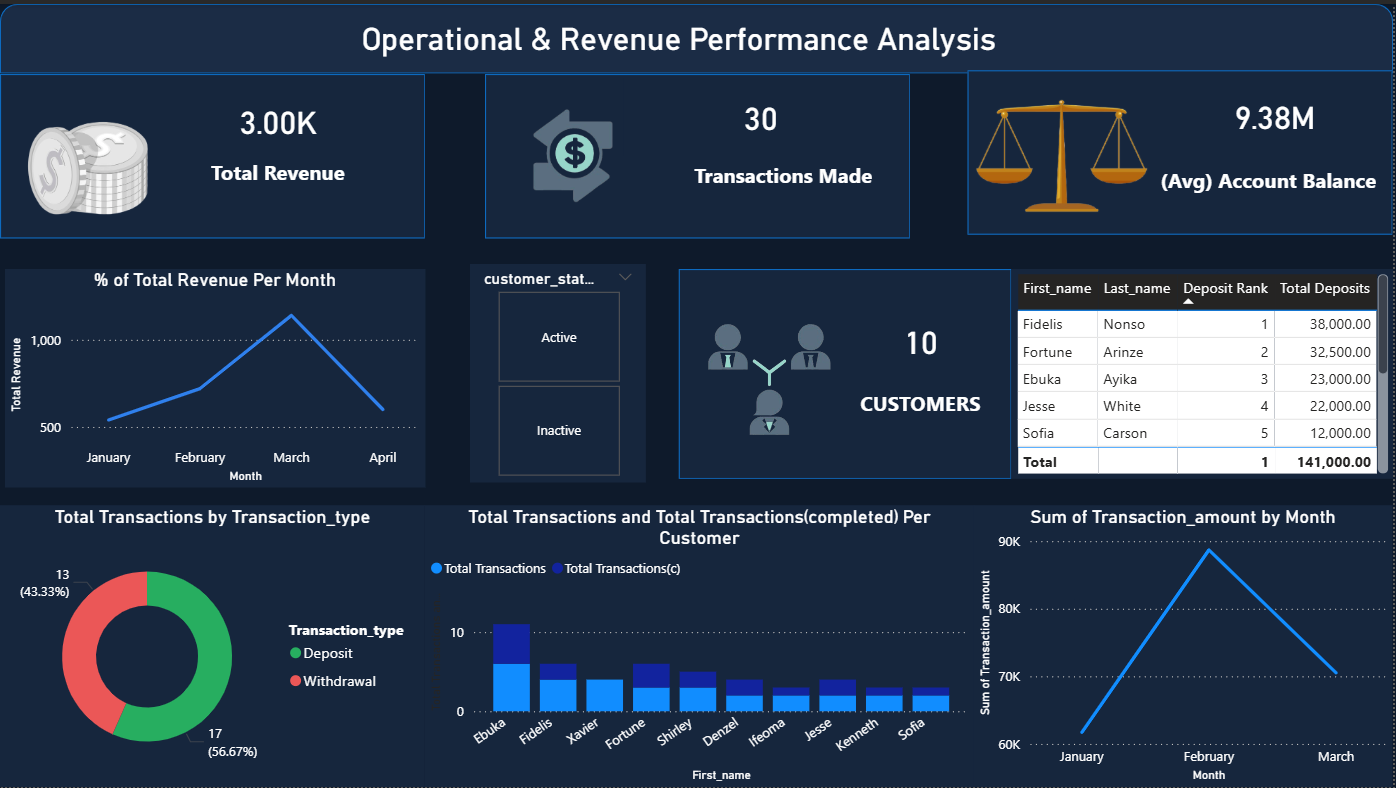

The page's visual inventory and layout, read from the dashboard file:
{"tool":"powerbi","page":{"name":"Page 1","canvas":[1280,720],"ordinal":0},"visuals":[{"type":"shape","box":[623.3,243,305.8,193],"z":0},{"type":"tableEx","fields":{"Values":["organization_db customers.First_name","organization_db customers.Last_name","organization_db account.Deposit Rank","organization_db account.Total Deposits"]},"box":[929.1,243,351.2,193],"z":1000},{"type":"lineChart","title":"% of Total Revenue  Per Month","fields":{"Category":["organization_db revenue.Revenue_date.Variation.Date Hierarchy.Month"],"Y":["organization_db account.Total Revenue"]},"box":[4.7,243,386,201.2],"z":2000},{"type":"donutChart","fields":{"Y":["organization_db account.Total Transactions"],"Category":["organization_db transactions.Transaction_type"]},"box":[0,460.5,390.7,259.3],"z":3000},{"type":"columnChart","title":"Total Transactions and Total Transactions(completed) Per Customer","fields":{"Category":["organization_db customers.First_name"],"Y":["organization_db account.Total Transactions","organization_db account.Total Transactions(c)"]},"box":[390.7,460.5,504.7,259.3],"z":4000},{"type":"lineChart","fields":{"Category":["organization_db transactions.Transaction_date.Variation.Date Hierarchy.Month"],"Y":["Sum(organization_db transactions.Transaction_amount)"]},"box":[895.4,460.5,384.9,259.3],"z":5000},{"type":"shape","box":[0,0,1280.2,64],"z":6000},{"type":"textbox","box":[239.5,10.5,767.4,44.2],"z":7000},{"type":"shape","box":[0,64,390.7,151.2],"z":8000},{"type":"card","fields":{"Values":["organization_db account.Total Revenue"]},"box":[143,69.8,224.4,74.4],"z":9000},{"type":"card","fields":{"Values":["CountNonNull(organization_db customers.Customer_Id)"]},"box":[776.7,270.9,139.5,77.9],"z":10000},{"type":"image","box":[0,54.7,161.6,177.9],"z":11000},{"type":"textbox","box":[174.4,137.2,161.6,51.2],"z":12000},{"type":"shape","box":[445.4,64,390.7,151.2],"z":13000},{"type":"shape","box":[889.5,60.5,390.7,151.2],"z":14000},{"type":"card","fields":{"Values":["Avg(organization_db account.Account_Balance)"]},"box":[1083.7,69.8,176.7,66.3],"z":15000},{"type":"card","fields":{"Values":["organization_db account.Total Transactions"]},"box":[573.3,67.4,252.3,72.1],"z":16000},{"type":"image","box":[445.4,46.5,161.6,187.2],"z":17000},{"type":"textbox","box":[615.1,140.7,210.5,47.7],"z":18000},{"type":"image","box":[895.4,46.5,161.6,187.2],"z":19000},{"type":"textbox","box":[1051.2,144.2,229.1,48.8],"z":20000},{"type":"image","box":[615.1,270.9,184.9,147.7],"z":21000},{"type":"textbox","box":[765.1,348.8,161.6,44.2],"z":22000},{"type":"slicer","fields":{"Values":["organization_db customers.customer_status"]},"box":[431.4,238.4,161.6,201.2],"z":23000}]}

Visuals, with their boxes in screenshot pixels (x1, y1, x2, y2), scaled from the page's 1280x720 canvas onto the 1396x788 screenshot:
shape: x1=680 y1=266 x2=1013 y2=477
tableEx - organization_db customers.First_name x organization_db customers.Last_name: x1=1013 y1=266 x2=1395 y2=477
"% of Total Revenue  Per Month" lineChart: x1=5 y1=266 x2=426 y2=486
donutChart - organization_db account.Total Transactions x organization_db transactions.Transaction_type: x1=0 y1=504 x2=426 y2=787
"Total Transactions and Total Transactions(completed) Per Customer" columnChart: x1=426 y1=504 x2=977 y2=787
lineChart - organization_db transactions.Transaction_date.Variation.Date Hierarchy.Month x Sum(organization_db transactions.Transaction_amount): x1=977 y1=504 x2=1395 y2=787
shape: x1=0 y1=0 x2=1395 y2=70
textbox: x1=261 y1=11 x2=1098 y2=60
shape: x1=0 y1=70 x2=426 y2=236
card - organization_db account.Total Revenue: x1=156 y1=76 x2=401 y2=158
card - CountNonNull(organization_db customers.Customer_Id): x1=847 y1=296 x2=999 y2=382
image: x1=0 y1=60 x2=176 y2=255
textbox: x1=190 y1=150 x2=366 y2=206
shape: x1=486 y1=70 x2=912 y2=236
shape: x1=970 y1=66 x2=1395 y2=232
card - Avg(organization_db account.Account_Balance): x1=1182 y1=76 x2=1375 y2=149
card - organization_db account.Total Transactions: x1=625 y1=74 x2=900 y2=153
image: x1=486 y1=51 x2=662 y2=256
textbox: x1=671 y1=154 x2=900 y2=206
image: x1=977 y1=51 x2=1153 y2=256
textbox: x1=1146 y1=158 x2=1395 y2=211
image: x1=671 y1=296 x2=872 y2=458
textbox: x1=834 y1=382 x2=1011 y2=430
slicer - organization_db customers.customer_status: x1=470 y1=261 x2=647 y2=481
